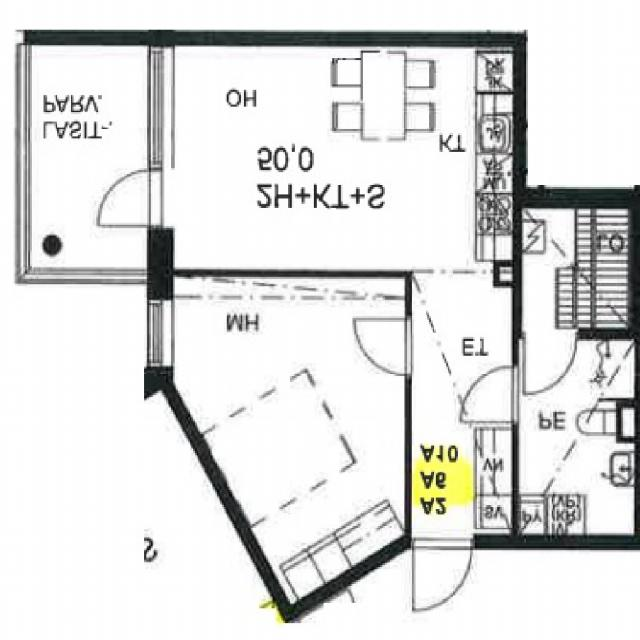door: (413, 535, 472, 613), (96, 169, 174, 227), (526, 329, 576, 394), (356, 320, 412, 376), (465, 368, 520, 422)
